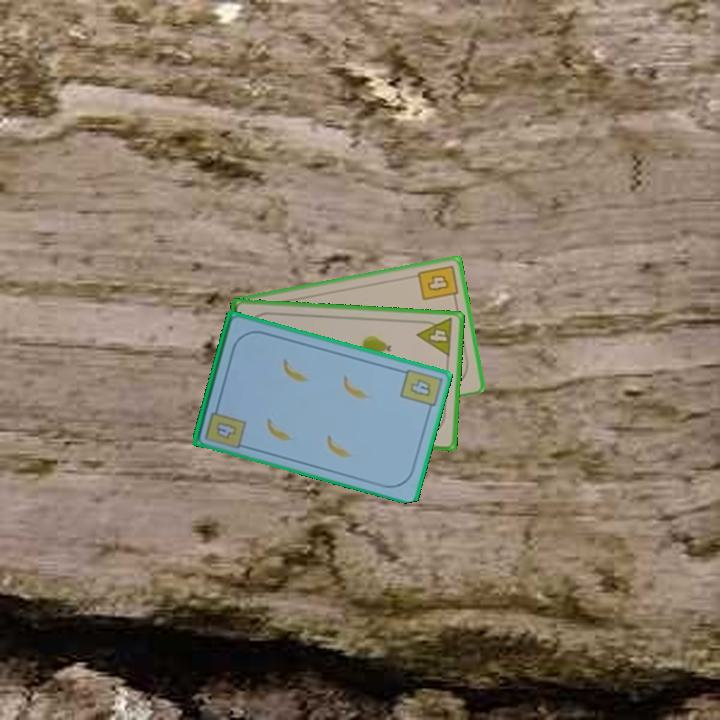4b: (397, 365, 443, 416), (414, 261, 461, 305), (213, 418, 240, 442)
4p: (414, 315, 456, 359)
